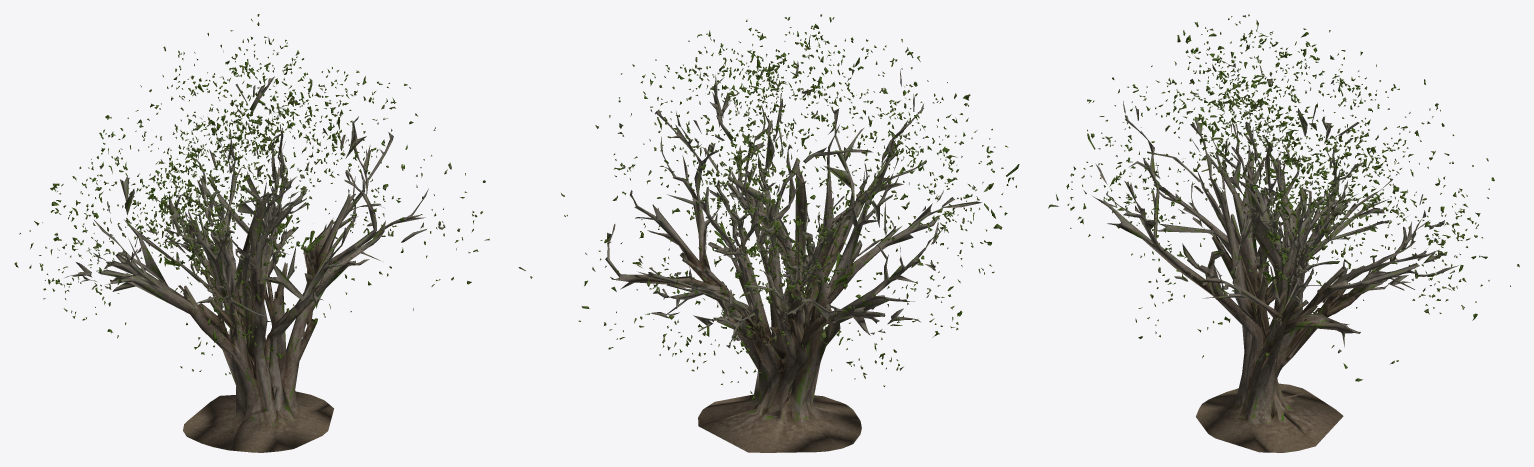
Rendered from tree_oliv_lod1.glb.
3 renders of one model, left to right at view 1: azimuth 30°, elevation 25°; view 2: azimuth 150°, elevation 25°; view 3: azimuth 270°, elevation 25°, orthographic. The views are drawn at different scales.
Visible parts, largest first — view 1: world; view 2: world; view 3: world.
Boxes of the visible parts, box(x1,y1,x2,y2) form: world: box(14, 14, 489, 452); world: box(518, 14, 1019, 452); world: box(1048, 14, 1519, 452).
Size of the model in its own units: 0.9325 by 0.8753 by 0.9722.
1 material, 1 textured.
